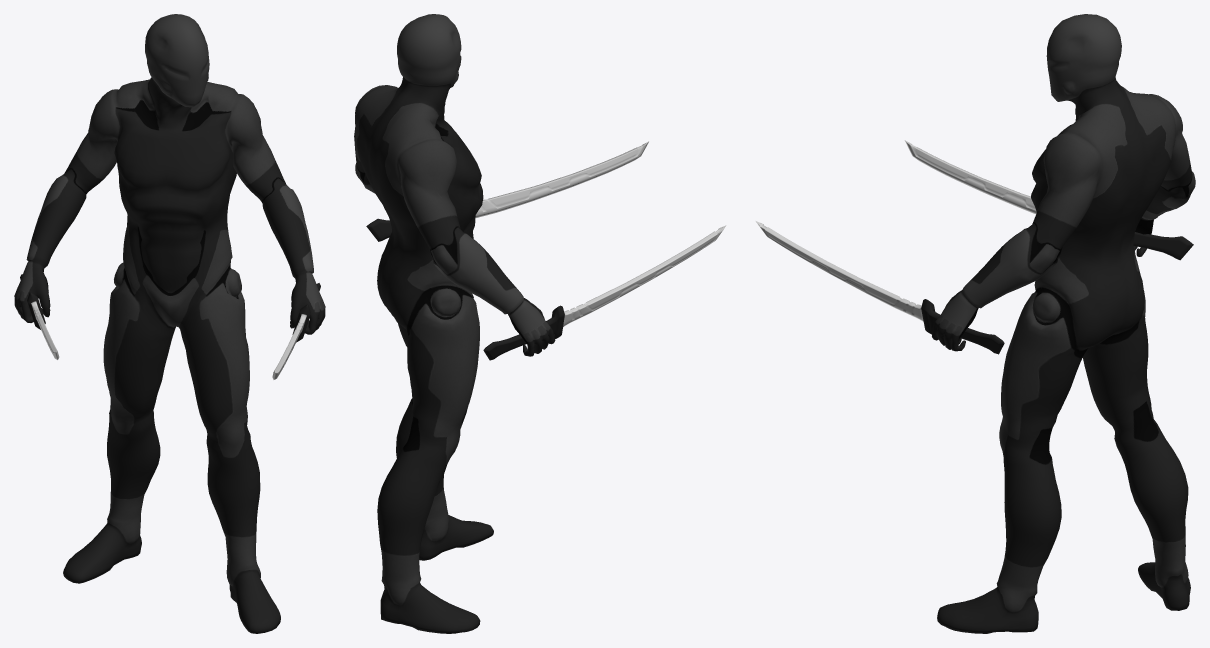
3 views of the same model, side by side, from view 1: azimuth 30°, elevation 25°; view 2: azimuth 150°, elevation 25°; view 3: azimuth 270°, elevation 25° (orthographic). The views are drawn at different scales.
Parts seen in each view (by area): view 1: Cyborg_Ninja_Killer, Sword_l, Sword_l001; view 2: Cyborg_Ninja_Killer, Sword_l001, Sword_l; view 3: Cyborg_Ninja_Killer, Sword_l, Sword_l001.
Part boxes in pixels (box(x1,y1,x2,y2)): Cyborg_Ninja_Killer: box(14, 14, 325, 633); Sword_l: box(272, 283, 320, 379); Sword_l001: box(20, 274, 59, 359); Cyborg_Ninja_Killer: box(354, 14, 555, 633); Sword_l001: box(483, 225, 726, 360); Sword_l: box(366, 141, 648, 241); Cyborg_Ninja_Killer: box(932, 14, 1195, 633); Sword_l: box(755, 221, 1004, 354); Sword_l001: box(904, 140, 1193, 260).
Bounding box in the file's own units: 105 × 182 × 123.
2 materials, 2 textured.
